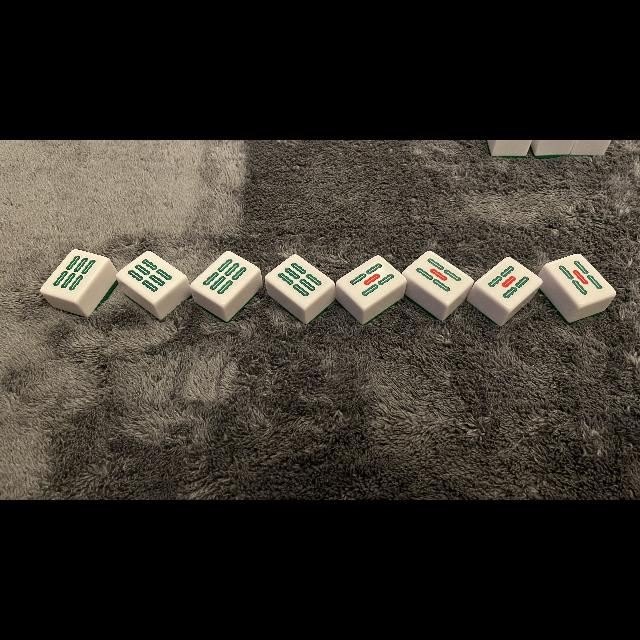b5: (554, 254, 608, 300), (411, 254, 467, 296), (346, 259, 398, 301), (484, 262, 536, 302)
b6: (273, 259, 327, 301), (198, 256, 250, 298), (50, 252, 98, 296), (125, 255, 175, 295)
